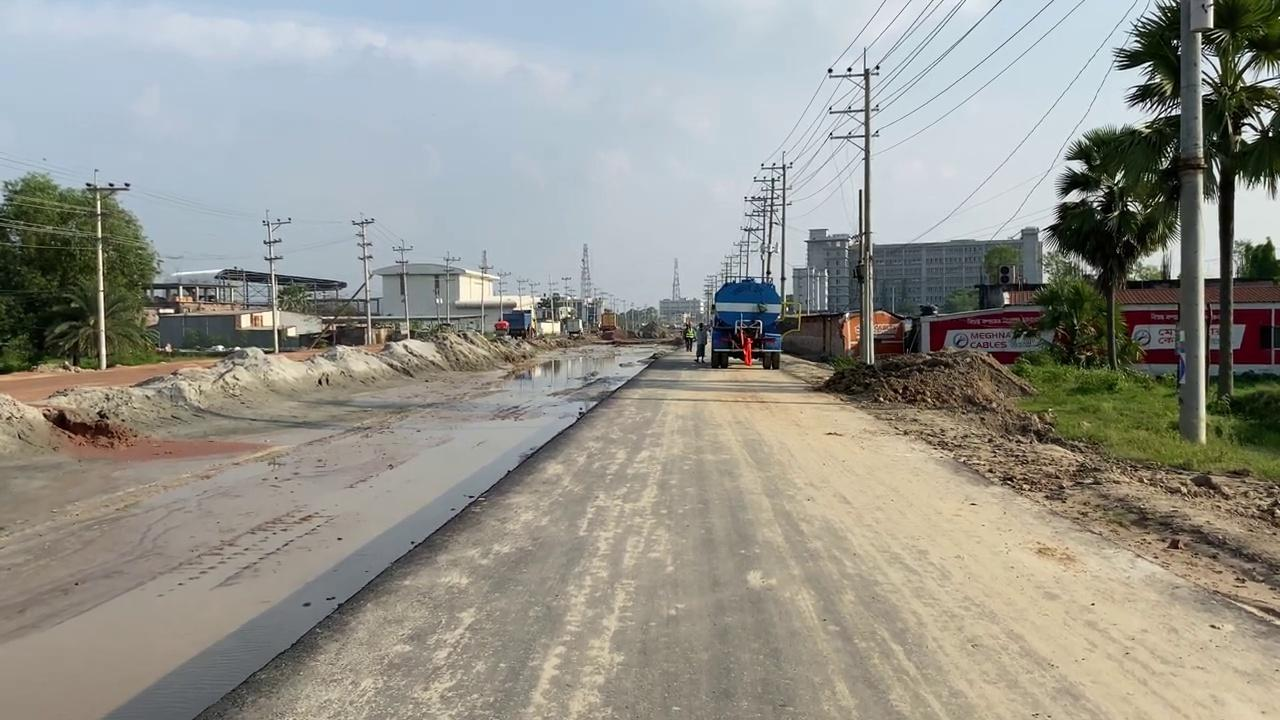Curb: (176, 408, 671, 717)
Light-pole: (83, 169, 130, 369)
Pole: (1175, 1, 1210, 445), (859, 48, 876, 365), (352, 213, 375, 344)
Traffic-sign: (1109, 0, 1279, 409), (1040, 123, 1177, 370)
Tree: (706, 149, 792, 369), (708, 276, 784, 369), (494, 291, 583, 339), (495, 309, 533, 337), (598, 310, 617, 338), (565, 317, 583, 338)
